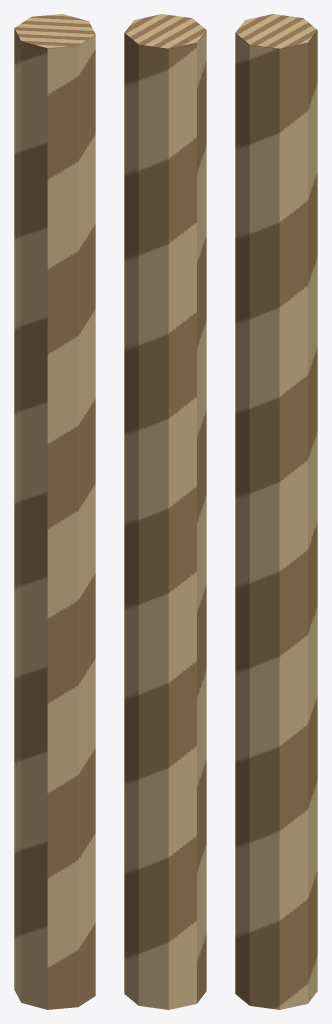
The model's file is rurka.fbx.
The picture shows the model from 3 angles, left to right: view 1: azimuth 90°, elevation 25°; view 2: azimuth 150°, elevation 25°; view 3: azimuth 330°, elevation 25°; orthographic projection.
Parts seen in each view (by area): view 1: Rurka; view 2: Rurka; view 3: Rurka.
Boxes of the visible parts, x1,y1,x2,y2 form: Rurka: (14,14,95,1009); Rurka: (124,14,206,1009); Rurka: (235,14,317,1009).
Size of the model in its own units: 110 by 1440 by 110.
Materials: 1 (1 with a texture image).
